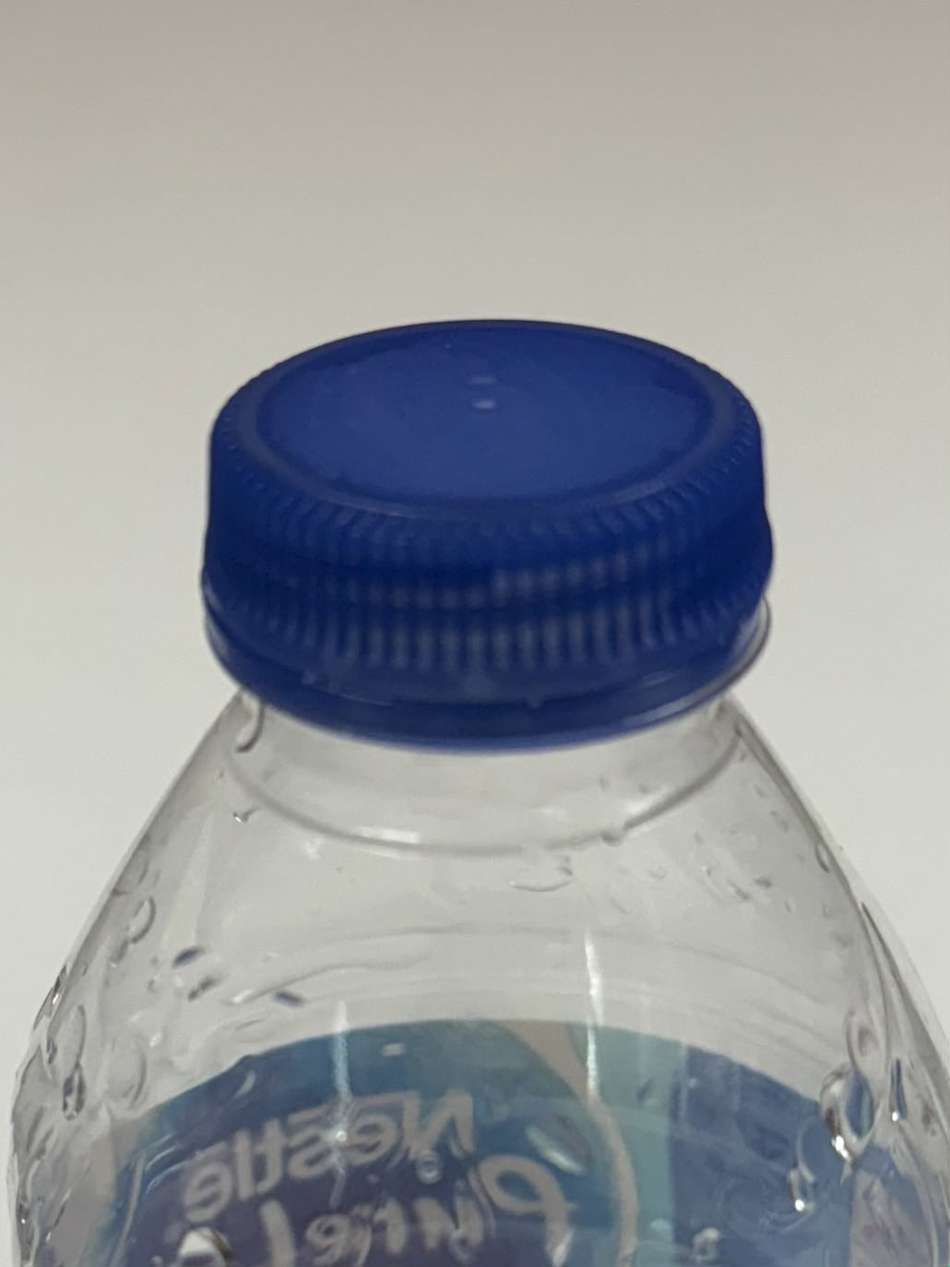closed_cap: (193, 309, 781, 749)
